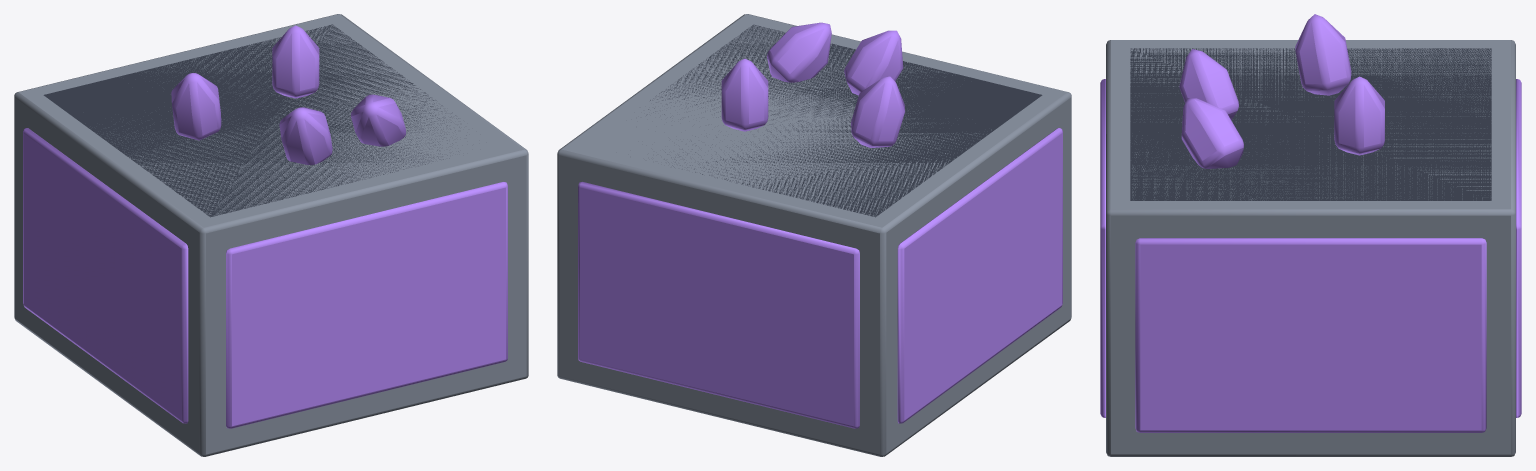
File: ware_kristall.fbx
The picture shows the model from 3 angles, left to right: view 1: azimuth 30°, elevation 25°; view 2: azimuth 150°, elevation 25°; view 3: azimuth 270°, elevation 25°; orthographic projection. The views are drawn at different scales.
Visible parts, largest first — view 1: ware_kristall_Koerper; view 2: ware_kristall_Koerper; view 3: ware_kristall_Koerper.
Part boxes in pixels (x1,y1,x2,y2): ware_kristall_Koerper: (14, 14, 528, 456); ware_kristall_Koerper: (557, 14, 1071, 456); ware_kristall_Koerper: (1100, 14, 1521, 456).
Size of the model in its own units: 0.432 by 0.3624 by 0.432.
